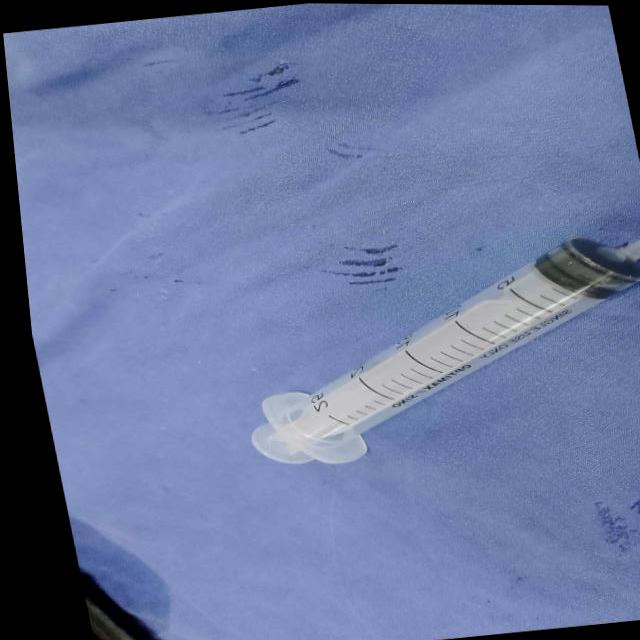Pathological: (3, 2, 637, 637)
Sharps: (249, 233, 638, 465)
